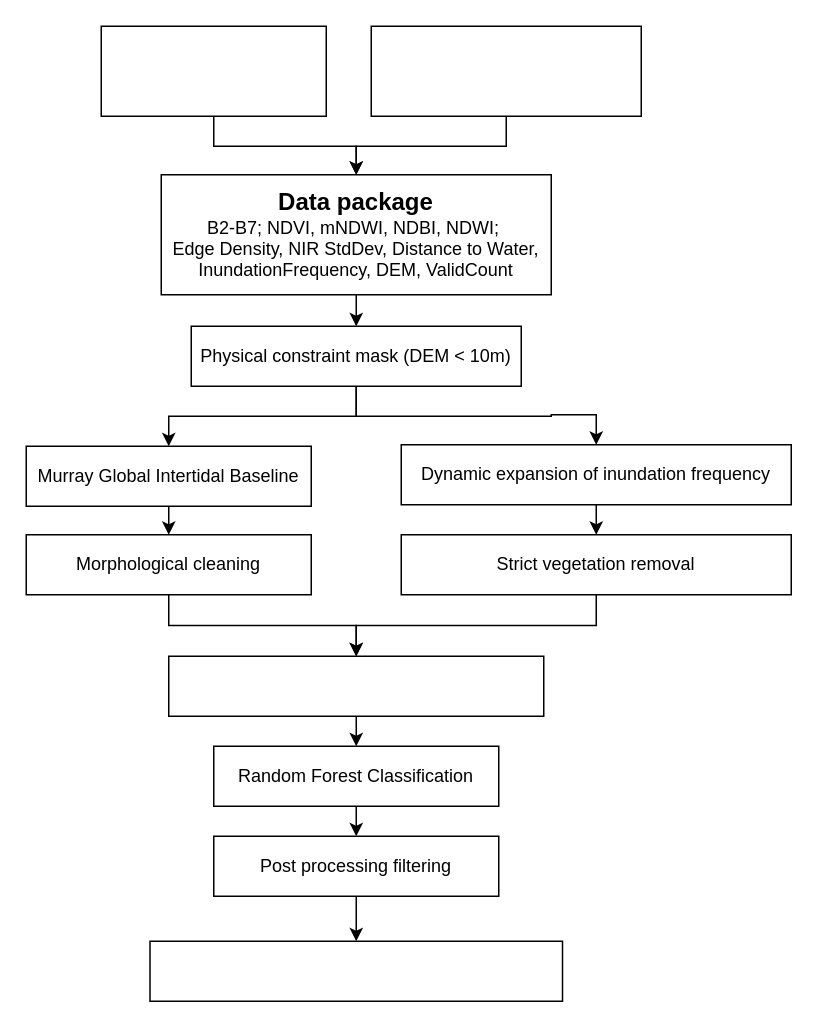
Some shapes in this 818 by 1028 pixel diagram are drawn without their labels. The shapes that lost their labels are listed below. From the top down, each one's centre as x and y in pixels, then its label:
At point (213, 70): "Lianyungang boundary data +10 km buffer".
At point (505, 70): "2014-2024 Remote sensing data (Sentinel-2/Landsat8)".
At point (355, 685): "Merge + Morphological Smoothing".
At point (355, 970): "Annual tidal flat distribution map".
